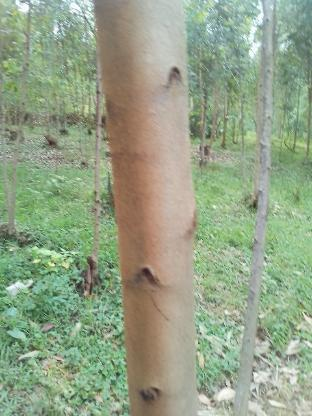tree: (86, 0, 210, 416)
